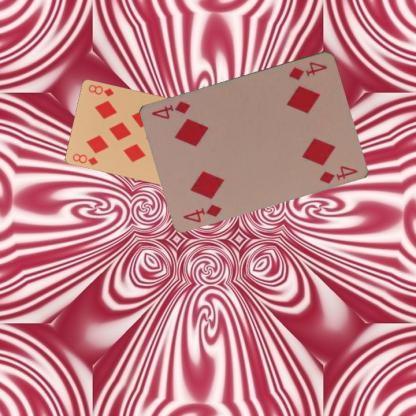4d: (286, 58, 329, 81), (181, 201, 223, 224)
8d: (70, 151, 100, 166)
